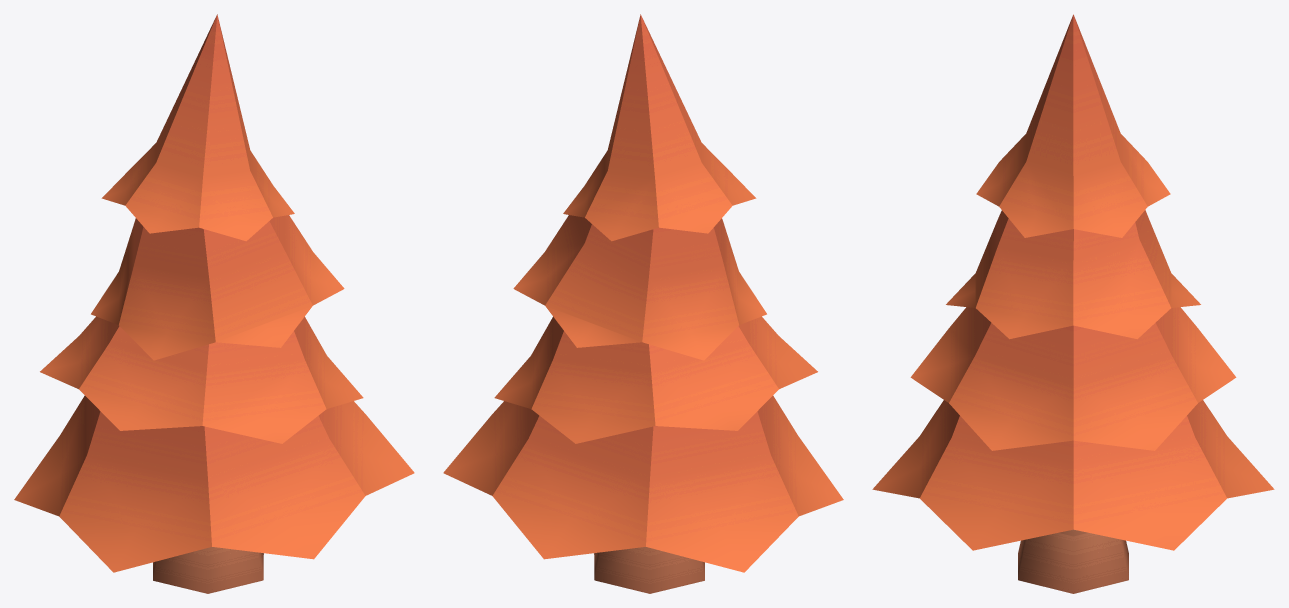
File: pine-fall-crooked.003_lev2.glb
3 renders of one model, left to right at view 1: azimuth 30°, elevation 25°; view 2: azimuth 150°, elevation 25°; view 3: azimuth 270°, elevation 25°, orthographic.
Visible parts, largest first — view 1: pine-fall-crooked.003_lev2; view 2: pine-fall-crooked.003_lev2; view 3: pine-fall-crooked.003_lev2.
Part boxes in pixels (bbox=[...]): pine-fall-crooked.003_lev2: bbox=[14, 14, 414, 593]; pine-fall-crooked.003_lev2: bbox=[443, 14, 843, 593]; pine-fall-crooked.003_lev2: bbox=[872, 14, 1274, 593].
Bounding box in the file's own units: 2.82 × 4.83 × 3.16.
Materials: 1 (1 with a texture image).
